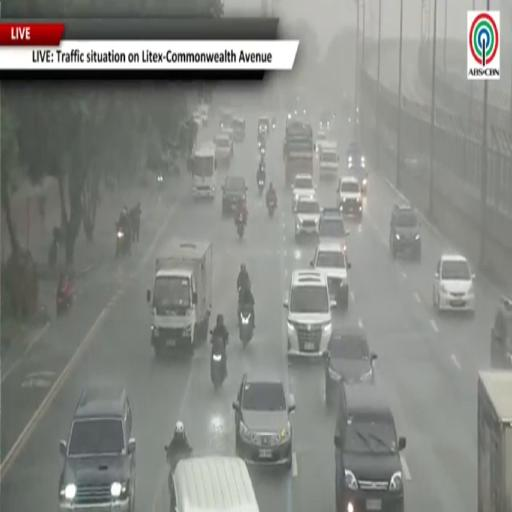car: (59, 384, 135, 511), (334, 384, 406, 511), (233, 375, 294, 469), (284, 269, 335, 357), (324, 327, 377, 406), (311, 244, 351, 309), (433, 253, 475, 313), (389, 205, 421, 261), (491, 296, 511, 370), (319, 207, 349, 252), (295, 197, 320, 241), (337, 176, 362, 220), (348, 143, 368, 195), (222, 175, 247, 215), (292, 174, 316, 212), (319, 141, 339, 178), (215, 134, 233, 165), (347, 142, 365, 169), (258, 116, 275, 134), (221, 127, 233, 152), (219, 109, 233, 130), (233, 118, 245, 142), (320, 111, 335, 130), (316, 131, 327, 155), (199, 104, 209, 124), (193, 110, 203, 126)
motorcycle: (165, 445, 192, 511), (211, 340, 226, 391), (239, 307, 254, 348), (56, 284, 74, 315), (116, 223, 131, 257), (237, 214, 244, 239), (268, 198, 276, 218), (258, 179, 264, 196), (157, 174, 163, 189), (259, 146, 266, 157)
truck: (147, 239, 212, 355), (478, 371, 511, 511), (283, 118, 314, 185), (191, 143, 217, 199)
